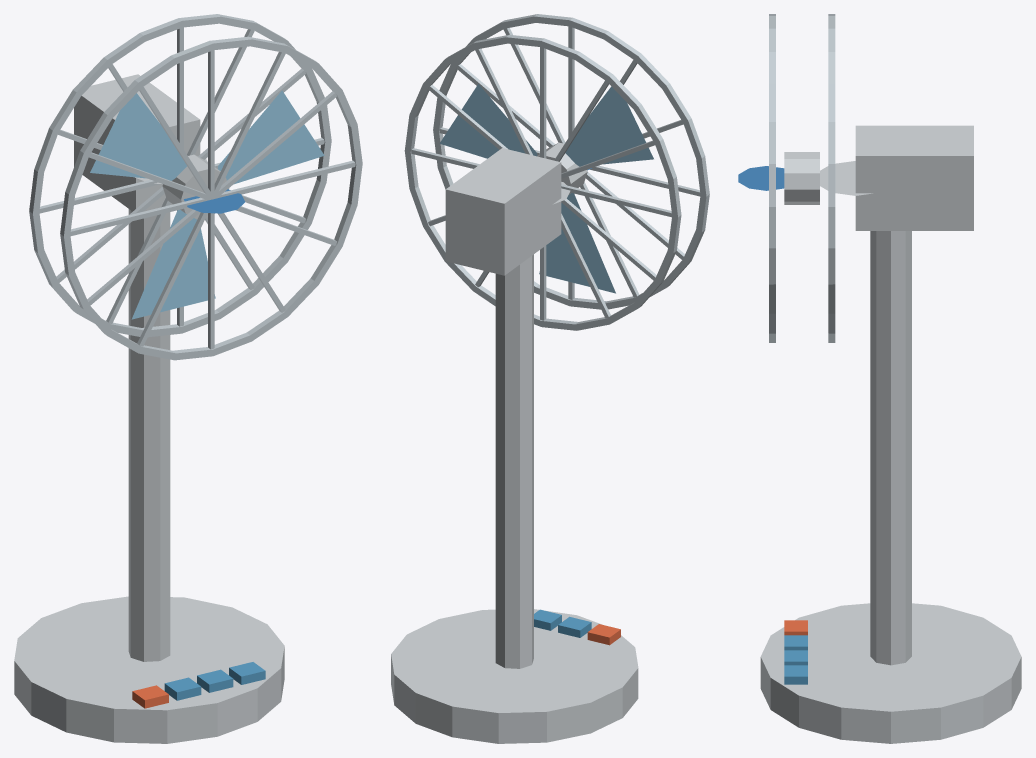
File: fan.glb
The picture shows the model from 3 angles, left to right: view 1: azimuth 30°, elevation 25°; view 2: azimuth 150°, elevation 25°; view 3: azimuth 270°, elevation 25°; orthographic projection. The views are drawn at different scales.
Visible parts, largest first — view 1: fanBase, fanHeadMesh, fanBladesMesh; view 2: fanBase, fanHeadMesh, fanBladesMesh; view 3: fanBase, fanHeadMesh, fanBladesMesh.
Part boxes in pixels (x1=…): fanBase: x1=14, y1=209, x2=284, y2=743; fanHeadMesh: x1=29, y1=14, x2=362, y2=360; fanBladesMesh: x1=90, y1=90, x2=324, y2=319; fanBase: x1=391, y1=254, x2=638, y2=743; fanHeadMesh: x1=404, y1=14, x2=709, y2=330; fanBladesMesh: x1=439, y1=84, x2=653, y2=293; fanBase: x1=760, y1=231, x2=1021, y2=743; fanHeadMesh: x1=738, y1=14, x2=973, y2=342; fanBladesMesh: x1=784, y1=152, x2=819, y2=204.
Size of the model in its own units: 0.5568 by 1.23 by 0.4776.
